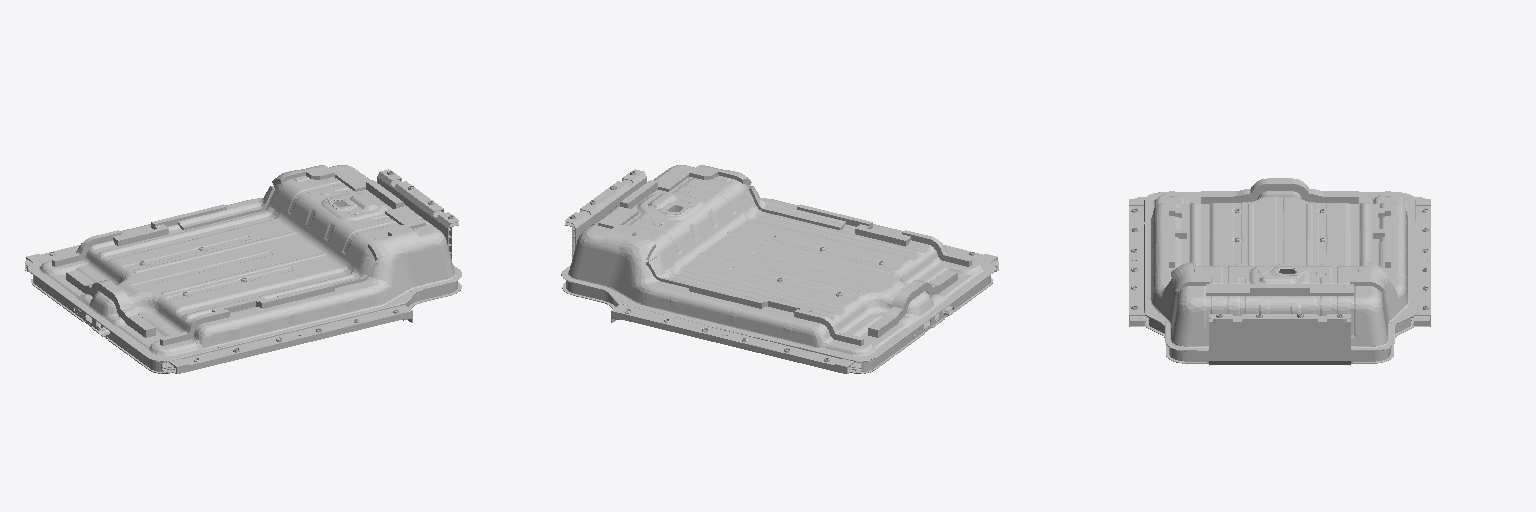
The model's file is niro2.obj.
3 views of the same model, side by side, from view 1: azimuth 30°, elevation 25°; view 2: azimuth 150°, elevation 25°; view 3: azimuth 270°, elevation 25° (orthographic).
Parts seen in each view (by area): view 1: niro; view 2: niro; view 3: niro.
Boxes of the visible parts, x1=… form: niro: x1=25, y1=165, x2=461, y2=373; niro: x1=561, y1=165, x2=998, y2=373; niro: x1=1129, y1=178, x2=1430, y2=364.
Size of the model in its own units: 1.86 by 0.3433 by 1.44.